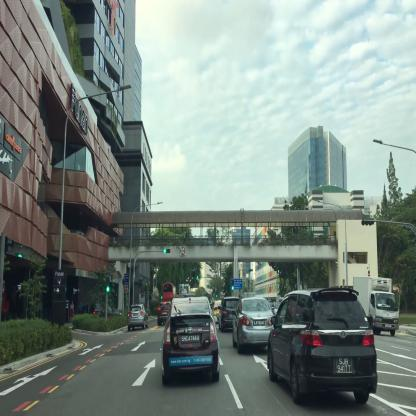green_traffic_light: (163, 247, 170, 253), (106, 278, 109, 290), (232, 280, 233, 290)
